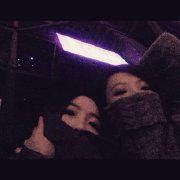OK: (106, 79, 158, 131)
WRONG: (58, 102, 104, 148)
